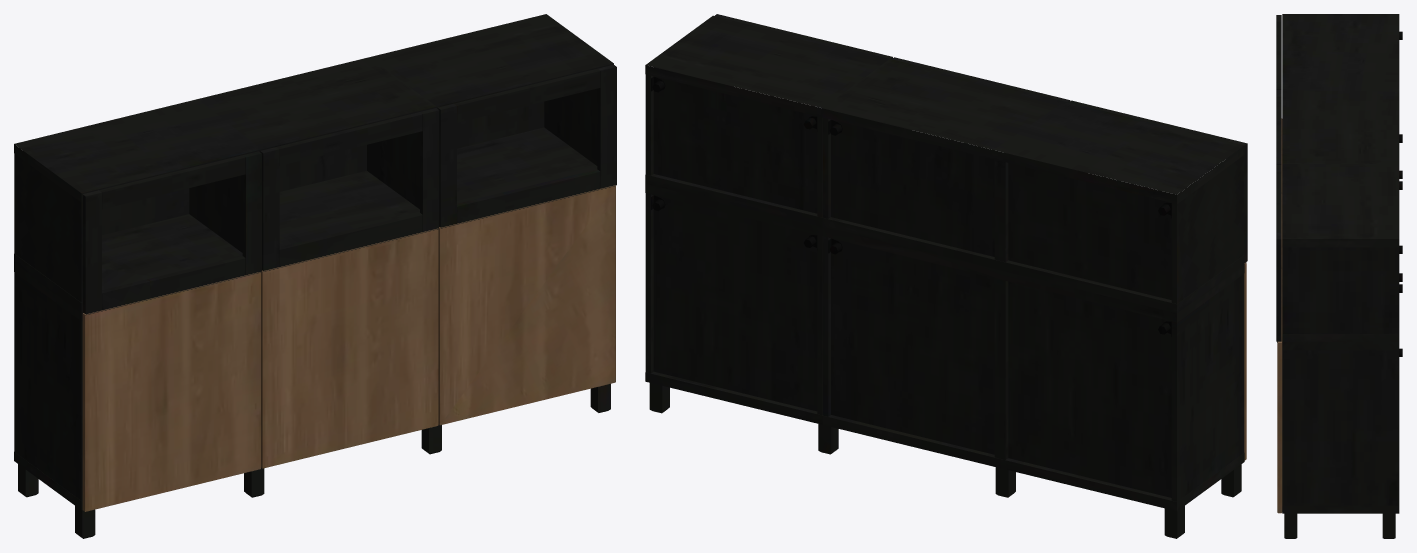
3 views of the same model, side by side, from view 1: azimuth 30°, elevation 25°; view 2: azimuth 150°, elevation 25°; view 3: azimuth 270°, elevation 25° (orthographic). The views are drawn at different scales.
Parts seen in each view (by area): view 1: 89612228_storage_combination_with_doors.003; view 2: 89612228_storage_combination_with_doors.003; view 3: 89612228_storage_combination_with_doors.003.
Part boxes in pixels (bbox=[...]): 89612228_storage_combination_with_doors.003: bbox=[14, 14, 616, 538]; 89612228_storage_combination_with_doors.003: bbox=[645, 14, 1247, 538]; 89612228_storage_combination_with_doors.003: bbox=[1276, 14, 1402, 538].
Bounding box in the file's own units: 1.8 × 1.12 × 0.4275.
2 materials, 2 textured.
